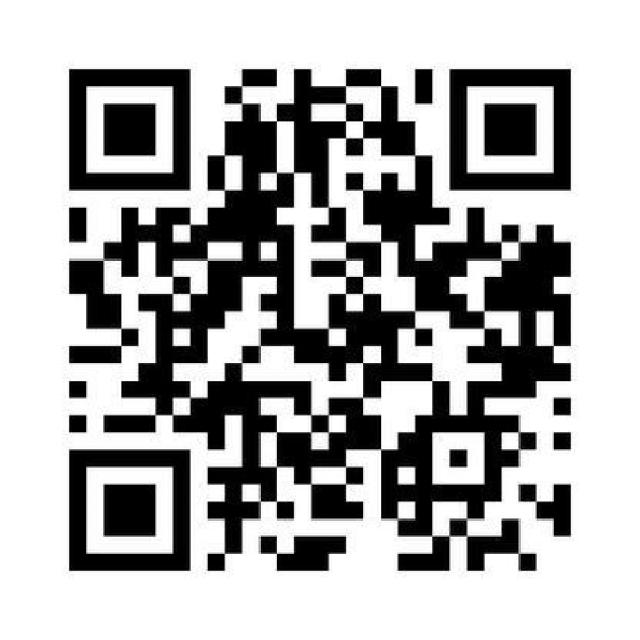QRCode: (59, 59, 584, 584)
